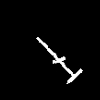double_crochet: (36, 37, 82, 83)
